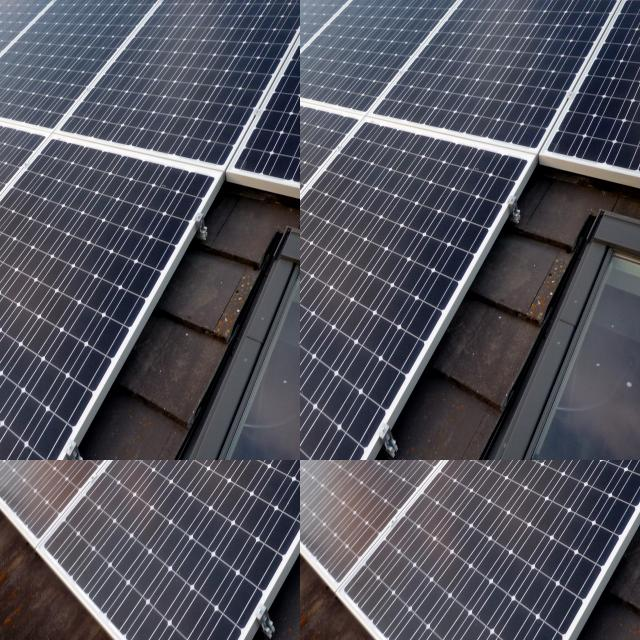crack: (322, 460, 640, 640), (300, 460, 544, 595), (0, 460, 48, 502), (0, 460, 31, 502), (0, 460, 29, 485), (0, 460, 25, 485), (0, 460, 23, 484), (0, 460, 21, 482), (0, 460, 18, 473), (0, 460, 17, 472), (0, 460, 15, 471), (0, 460, 16, 470)
hotspot: (0, 0, 20, 16), (0, 0, 16, 18), (0, 0, 8, 27), (300, 0, 309, 7), (300, 0, 306, 6), (300, 0, 305, 5)
